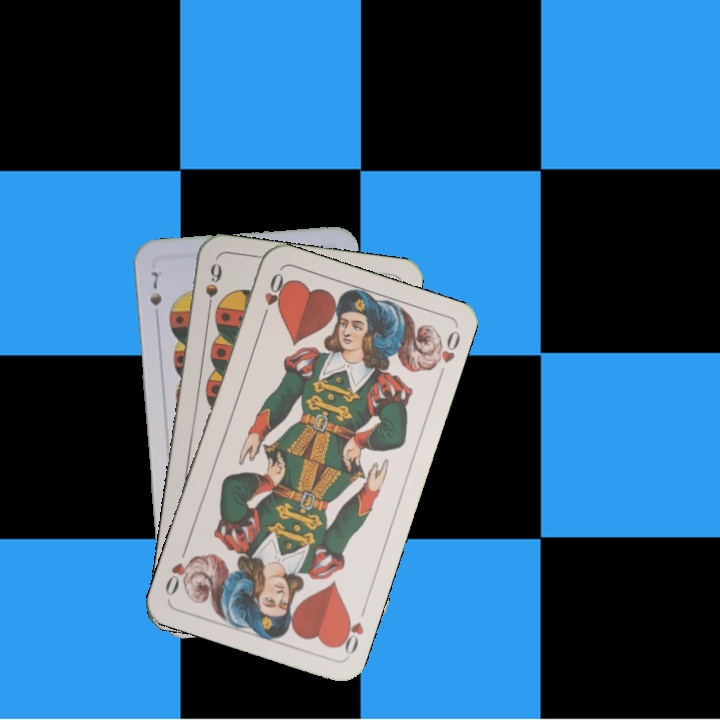HO: (333, 609, 367, 659), (257, 268, 286, 325)
S7: (145, 267, 165, 308)
S9: (201, 260, 225, 317)
